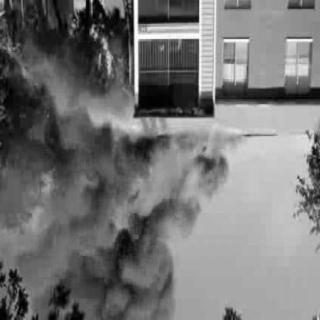Fire: (109, 126, 233, 252)
Smoke: (60, 242, 154, 309)
